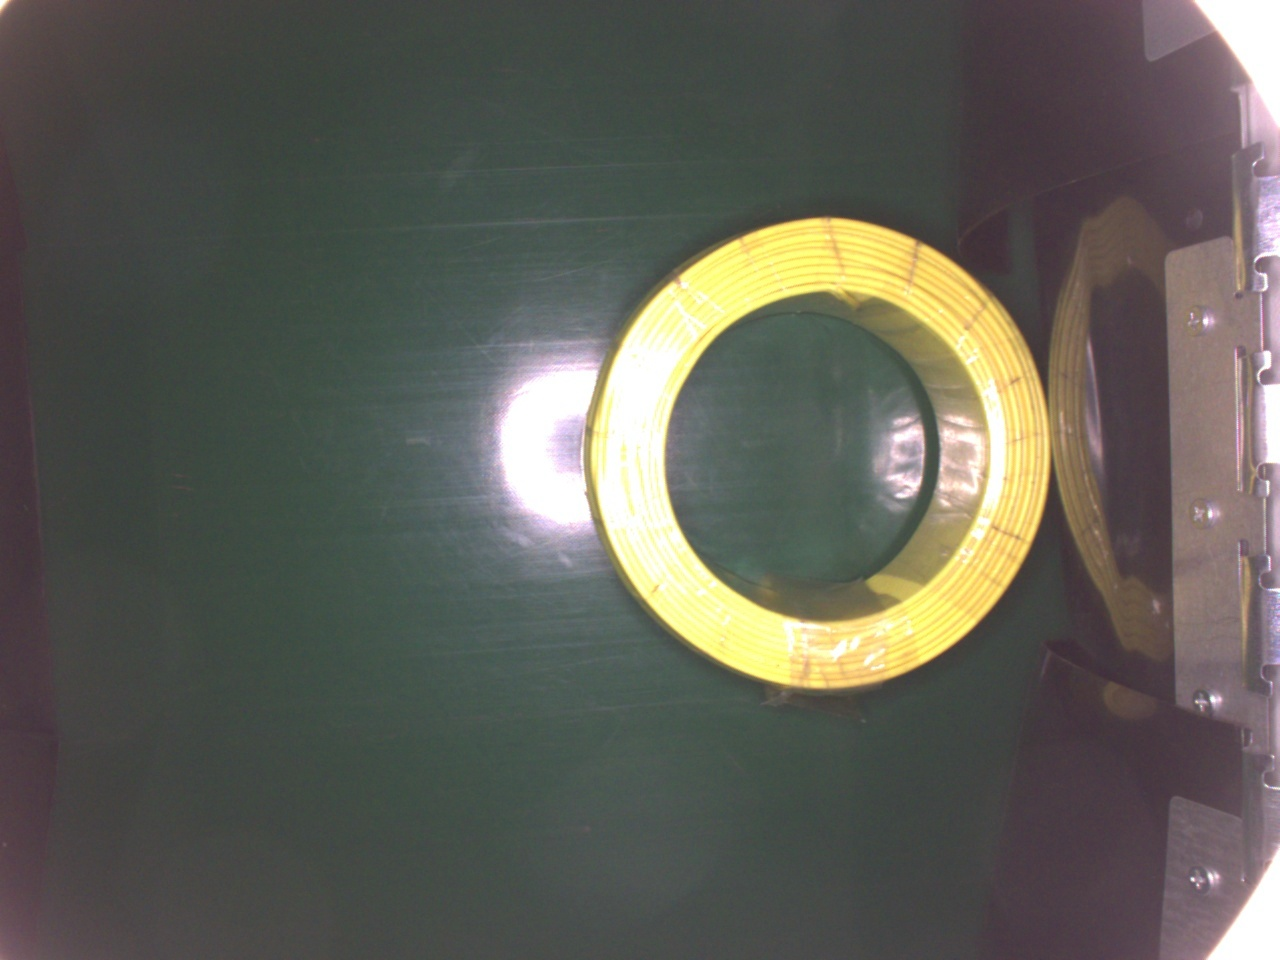yellow: (573, 207, 1064, 691)
